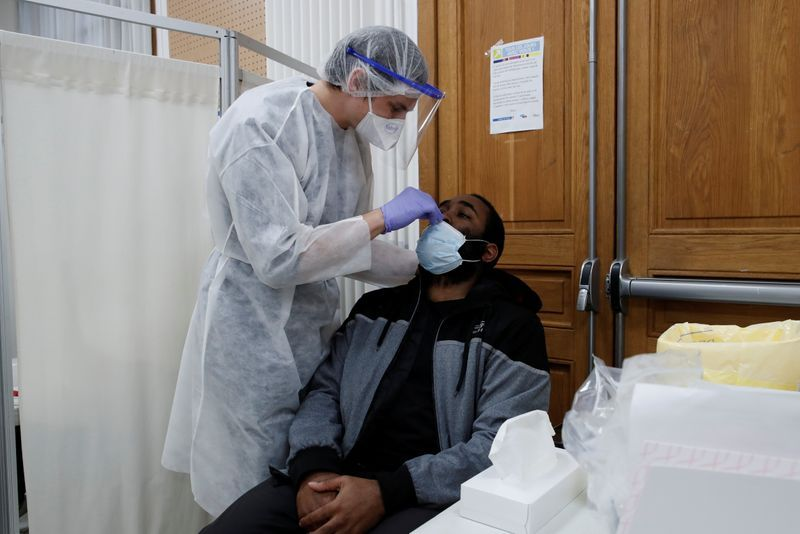Gloves: (377, 184, 444, 236)
face_shield: (354, 60, 445, 161)
mask_weared_incorrect: (411, 195, 482, 283)
with_mask: (355, 93, 414, 154)
